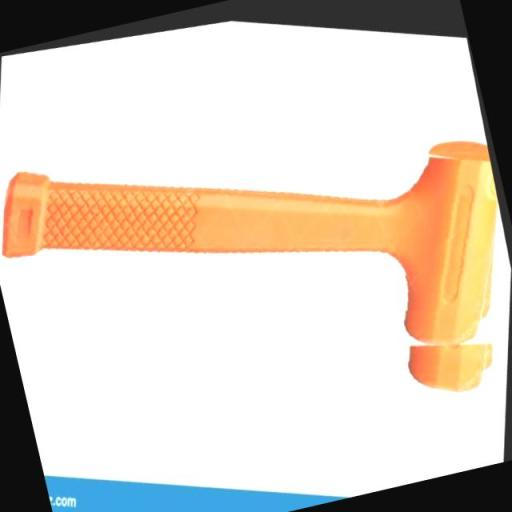mallet: (0, 67, 512, 442)
